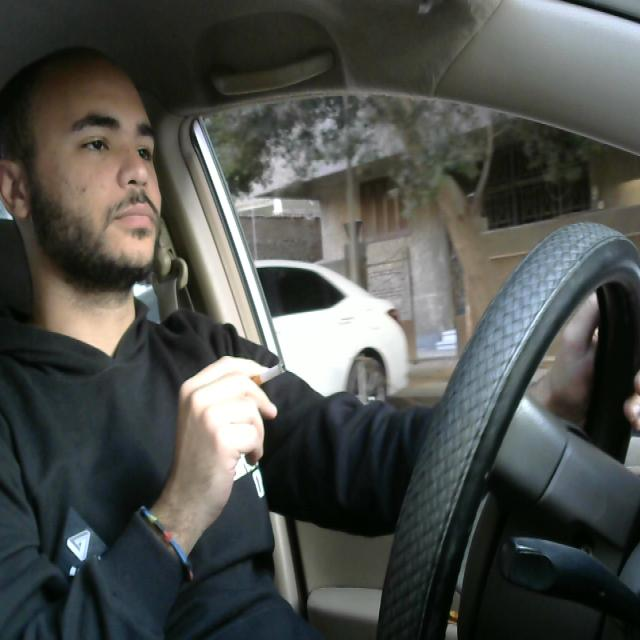smoking: (235, 356, 289, 393)
